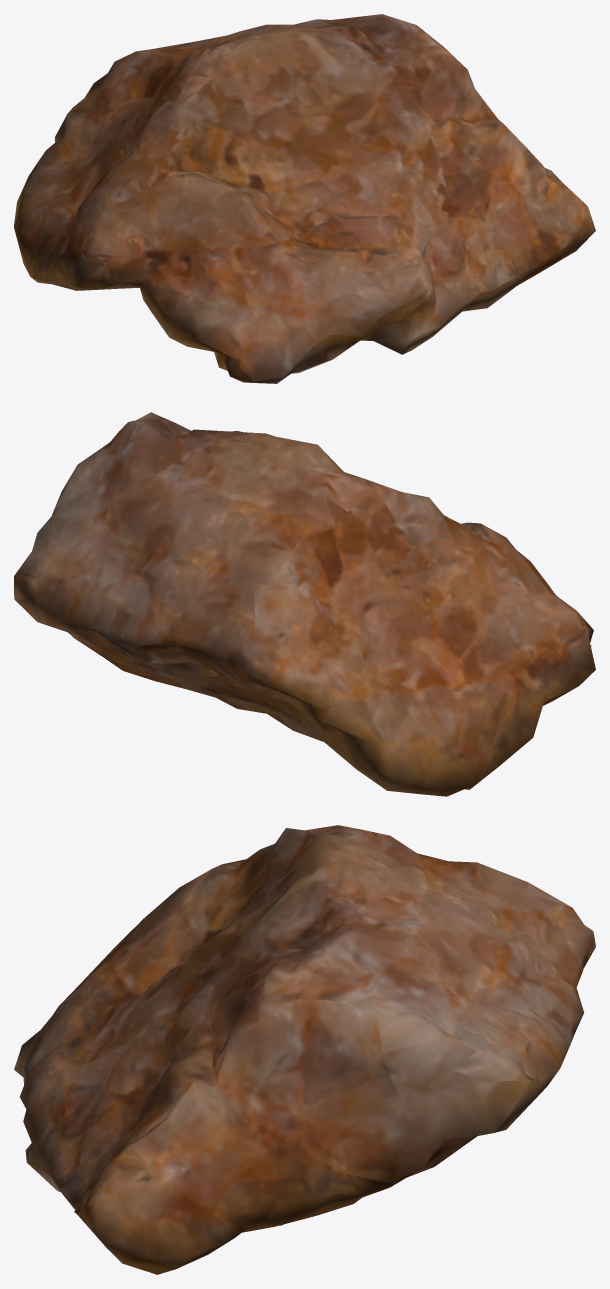
The model's file is aggregate-a.fbx.
3 renders of one model, top to bottom at view 1: azimuth 30°, elevation 25°; view 2: azimuth 150°, elevation 25°; view 3: azimuth 270°, elevation 25°, orthographic. The views are drawn at different scales.
Visible parts, largest first — view 1: aggregate-a; view 2: aggregate-a; view 3: aggregate-a.
Part boxes in pixels (<box>): aggregate-a: <box>14,14,595,383</box>; aggregate-a: <box>14,412,595,796</box>; aggregate-a: <box>14,825,595,1274</box>.
Bounding box in the file's own units: 7.63 × 3.81 × 6.31.
Materials: 1 (1 with a texture image).
